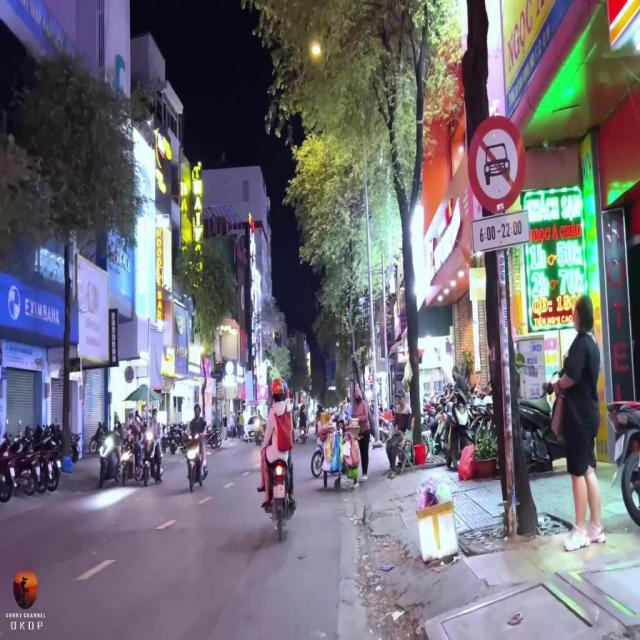cam_o_to: (468, 114, 525, 213)
khac: (471, 210, 531, 253)
